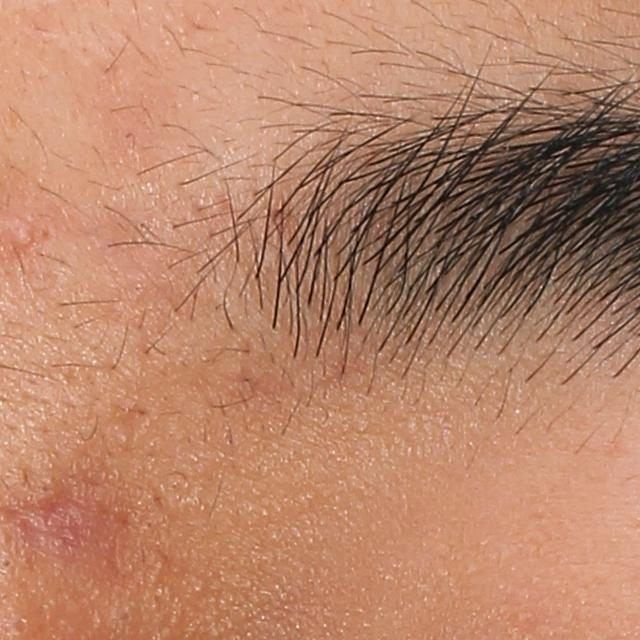comedo: (11, 615, 35, 638)
